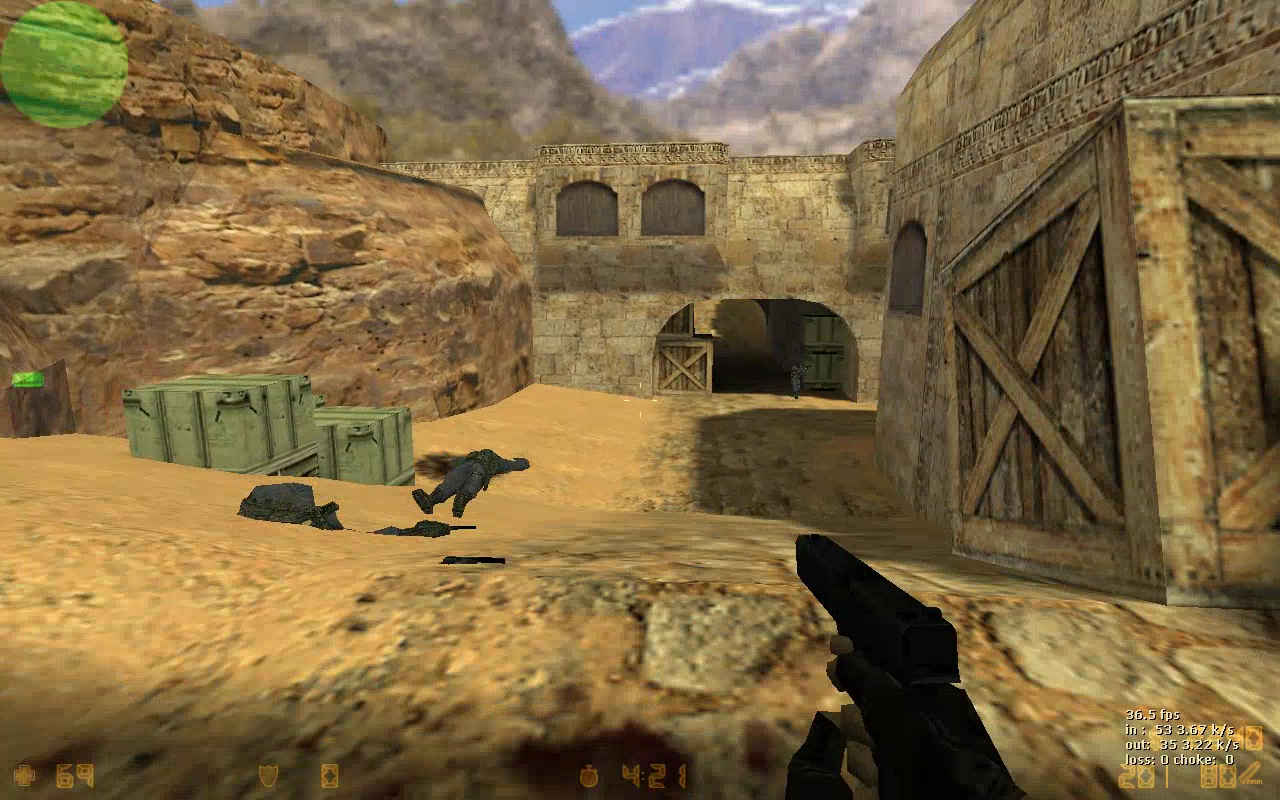dead: (412, 449, 528, 513)
